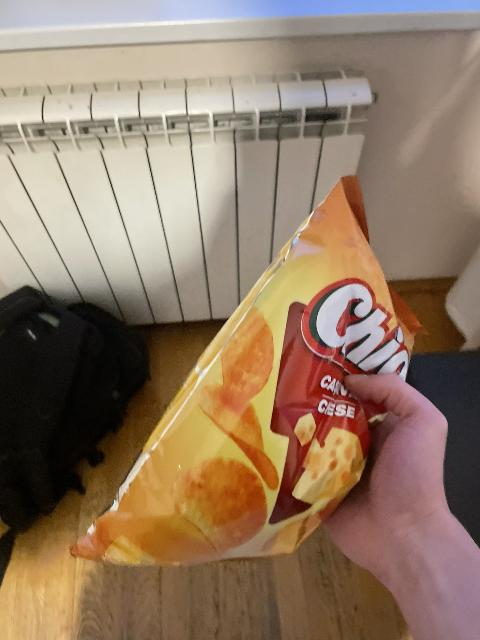Chio Cascaval 125g: (69, 174, 421, 564)
